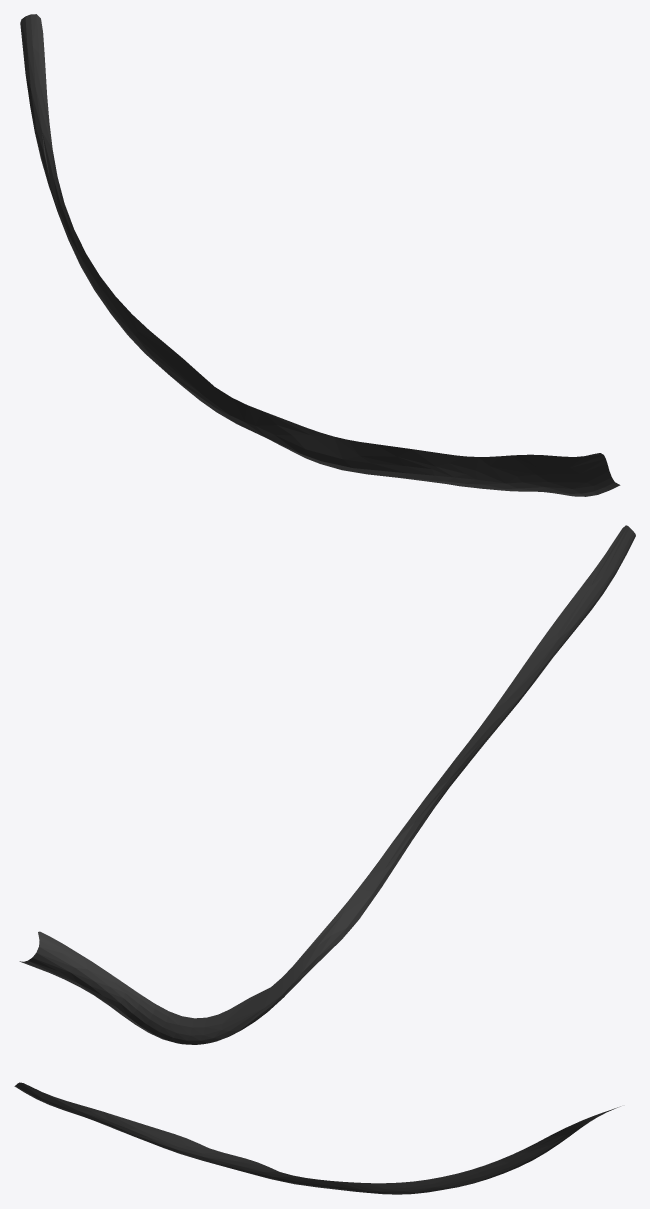
The model's file is Scapula_cranial_border.glb.
The picture shows the model from 3 angles, top to bottom: view 1: azimuth 30°, elevation 25°; view 2: azimuth 150°, elevation 25°; view 3: azimuth 270°, elevation 25°; orthographic projection. The views are drawn at different scales.
Parts seen in each view (by area): view 1: Scapula_cranial_border; view 2: Scapula_cranial_border; view 3: Scapula_cranial_border.
Part boxes in pixels (bbox=[...]): Scapula_cranial_border: bbox=[20, 14, 620, 496]; Scapula_cranial_border: bbox=[19, 525, 635, 1044]; Scapula_cranial_border: bbox=[14, 1082, 620, 1194].
Size of the model in its own units: 0.1209 by 0.3697 by 1.74.
Materials: 1 (1 with a texture image).
